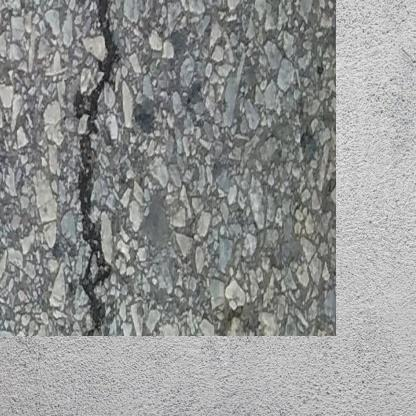Cracks: (66, 0, 113, 310)
